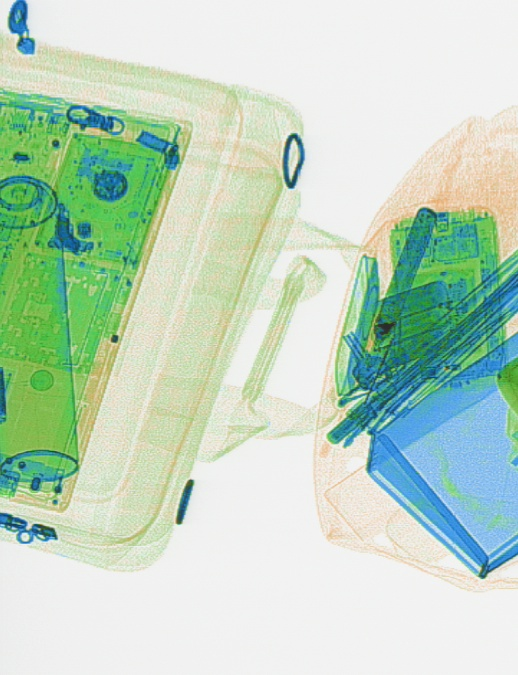pressure: (0, 170, 79, 487)
